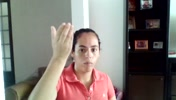hand: (17, 10, 99, 90)
